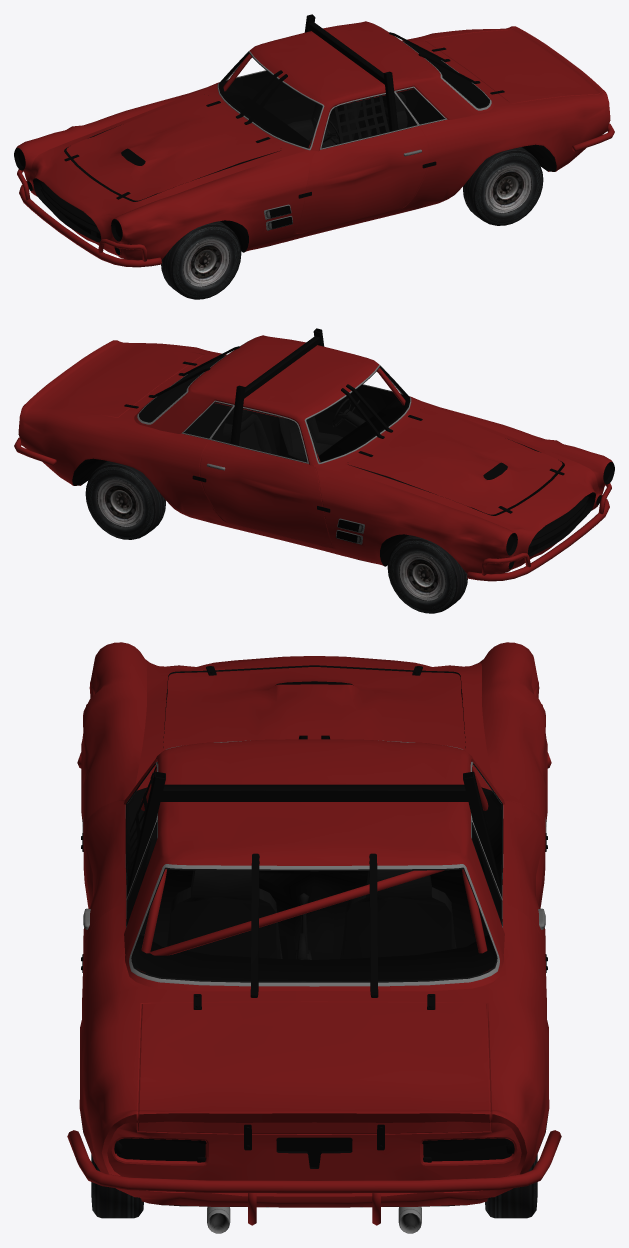
The picture shows the model from 3 angles, top to bottom: view 1: azimuth 30°, elevation 25°; view 2: azimuth 150°, elevation 25°; view 3: azimuth 270°, elevation 25°; orthographic projection. The views are drawn at different scales.
Parts seen in each view (by area): view 1: body_Material #1404_0, interior_Material #1410_0, wheel_02_Material #1409_0, wheel_01_Material #1409_0, interior_plastic_0, derby_kit, bottom_Material #1410_0, bumpers, windows_frame_chrome_0, void_void_0, windows_frame_plastic_0; view 2: body_Material #1404_0, interior_Material #1410_0, wheel_03_Material #1409_0, wheel_04_Material #1409_0, interior_plastic_0, derby_kit, bottom_Material #1410_0, bumpers, windows_frame_chrome_0, void_void_0, windows_frame_plastic_0; view 3: body_Material #1404_0, interior_Material #1410_0, interior_plastic_0, derby_kit, bumpers, bottom_Material #1410_0, windows_frame_chrome_0, windows_frame_plastic_0, chrome_chrome_0, wheel_02_Material #1409_0, wheel_03_Material #1409_0, void_void_0.
Part boxes in pixels (left/top/right/bottom): body_Material #1404_0: left=16, top=21, right=610, bottom=260; interior_Material #1410_0: left=219, top=41, right=489, bottom=147; wheel_02_Material #1409_0: left=463, top=147, right=543, bottom=225; wheel_01_Material #1409_0: left=161, top=221, right=241, bottom=299; interior_plastic_0: left=284, top=84, right=407, bottom=148; derby_kit: left=64, top=14, right=504, bottom=199; bottom_Material #1410_0: left=14, top=144, right=556, bottom=254; bumpers: left=17, top=53, right=614, bottom=267; windows_frame_chrome_0: left=217, top=24, right=491, bottom=150; void_void_0: left=43, top=125, right=292, bottom=239; windows_frame_plastic_0: left=218, top=52, right=489, bottom=148; body_Material #1404_0: left=18, top=335, right=612, bottom=574; interior_Material #1410_0: left=139, top=355, right=409, bottom=461; wheel_03_Material #1409_0: left=85, top=461, right=165, bottom=539; wheel_04_Material #1409_0: left=387, top=535, right=467, bottom=613; interior_plastic_0: left=222, top=398, right=365, bottom=462; derby_kit: left=124, top=328, right=564, bottom=513; bottom_Material #1410_0: left=72, top=458, right=614, bottom=568; bumpers: left=14, top=367, right=611, bottom=581; windows_frame_chrome_0: left=137, top=338, right=411, bottom=464; void_void_0: left=336, top=439, right=585, bottom=553; windows_frame_plastic_0: left=139, top=366, right=410, bottom=462; body_Material #1404_0: left=79, top=642, right=549, bottom=1207; interior_Material #1410_0: left=127, top=787, right=501, bottom=981; interior_plastic_0: left=130, top=762, right=456, bottom=981; derby_kit: left=81, top=666, right=547, bottom=1150; bumpers: left=67, top=704, right=561, bottom=1225; bottom_Material #1410_0: left=80, top=936, right=548, bottom=1207; windows_frame_chrome_0: left=125, top=740, right=503, bottom=986; windows_frame_plastic_0: left=125, top=763, right=503, bottom=982; chrome_chrome_0: left=82, top=817, right=546, bottom=1233; wheel_02_Material #1409_0: left=91, top=1154, right=143, bottom=1218; wheel_03_Material #1409_0: left=485, top=1154, right=537, bottom=1218; void_void_0: left=82, top=665, right=546, bottom=826.
Size of the model in its own units: 177 by 55.53 by 74.42.
Materials: 6 (2 with a texture image).
